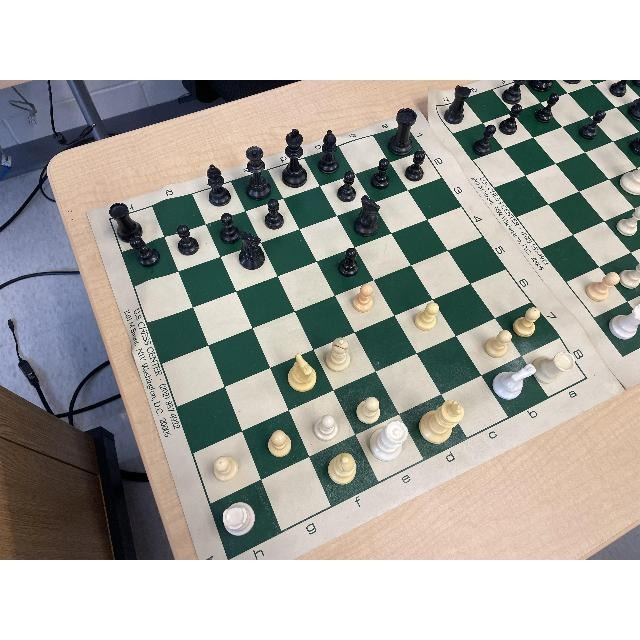black-bishop: (200, 161, 234, 205), (318, 128, 340, 176), (500, 80, 526, 106)
black-king: (279, 128, 311, 189), (530, 80, 558, 92)
black-knight: (354, 194, 381, 240), (238, 231, 266, 271), (626, 93, 640, 121), (630, 130, 640, 161), (562, 81, 584, 87)
black-pawn: (128, 235, 162, 269), (578, 109, 606, 145), (533, 91, 560, 127), (471, 124, 497, 158), (335, 170, 361, 203), (498, 103, 523, 137), (403, 150, 426, 184), (217, 212, 241, 244), (371, 156, 392, 192), (338, 247, 362, 278), (177, 224, 201, 255), (261, 199, 284, 229), (608, 80, 628, 99)
black-queen: (244, 142, 272, 199)
black-rook: (106, 201, 144, 242), (387, 109, 417, 155), (444, 84, 469, 126)
white-bishop: (324, 337, 354, 373), (329, 453, 357, 487)
white-king: (419, 399, 464, 445)
white-knight: (492, 360, 534, 406), (285, 355, 319, 393), (620, 164, 639, 200)
white-pawn: (584, 271, 620, 303), (513, 305, 541, 341), (413, 302, 443, 333), (614, 205, 640, 240), (485, 330, 513, 360), (356, 396, 381, 426), (350, 283, 375, 312), (313, 414, 339, 441), (213, 455, 239, 481), (268, 428, 291, 457), (620, 260, 640, 292)
white-queen: (367, 420, 410, 464)
white-rook: (531, 348, 577, 392), (219, 500, 257, 536), (608, 302, 640, 343)
